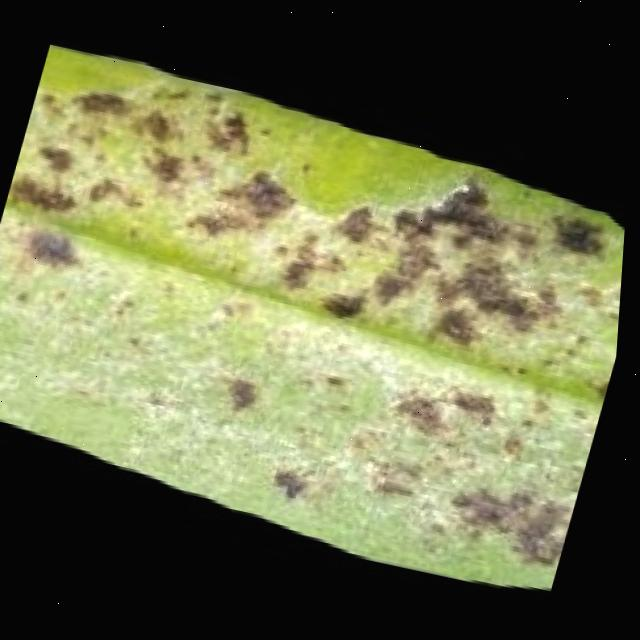mite: (199, 144, 629, 557), (0, 133, 116, 278), (538, 198, 627, 274), (10, 171, 86, 218), (549, 210, 617, 260), (89, 172, 155, 214), (438, 300, 493, 348), (74, 83, 134, 122), (323, 286, 373, 323), (276, 463, 321, 501), (38, 139, 83, 175), (599, 377, 615, 399)
spots: (0, 36, 632, 601)
